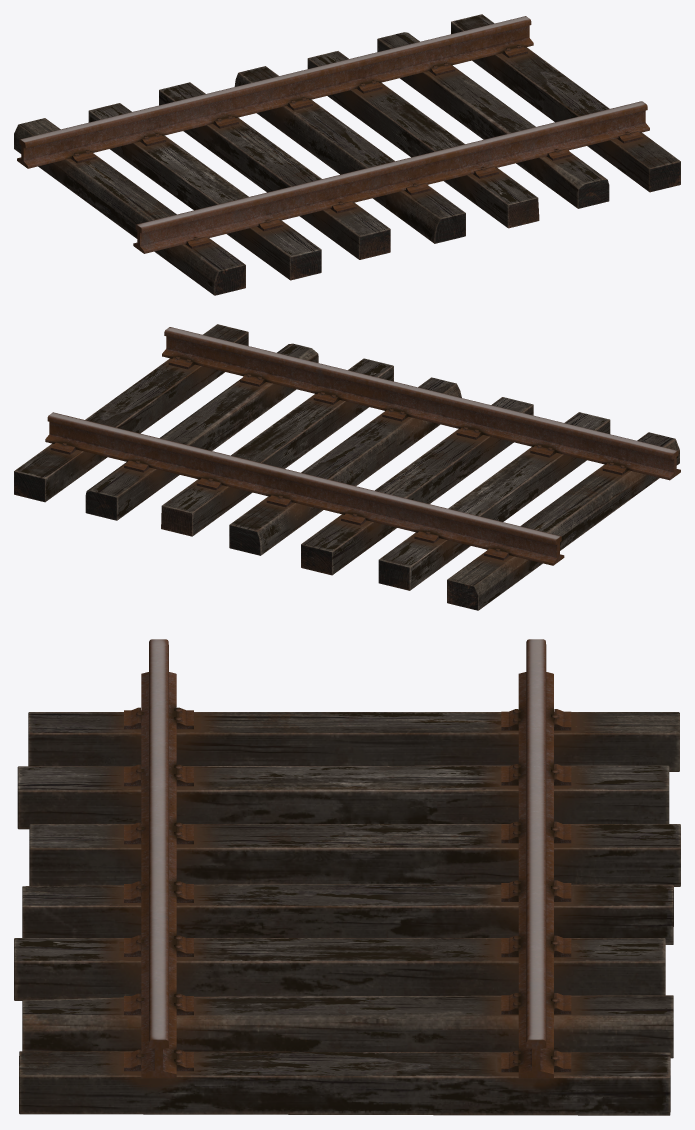
The picture shows the model from 3 angles, top to bottom: view 1: azimuth 30°, elevation 25°; view 2: azimuth 150°, elevation 25°; view 3: azimuth 270°, elevation 25°; orthographic projection. The views are drawn at different scales.
Visible parts, largest first — view 1: railroad_gav_railroad_gav_0; view 2: railroad_gav_railroad_gav_0; view 3: railroad_gav_railroad_gav_0.
Boxes of the visible parts, x1,y1,x2,y2 form: railroad_gav_railroad_gav_0: (14, 14, 680, 295); railroad_gav_railroad_gav_0: (14, 324, 680, 610); railroad_gav_railroad_gav_0: (14, 639, 680, 1115).
Size of the model in its own units: 4 by 0.3716 by 2.82.
1 material, 1 textured.
